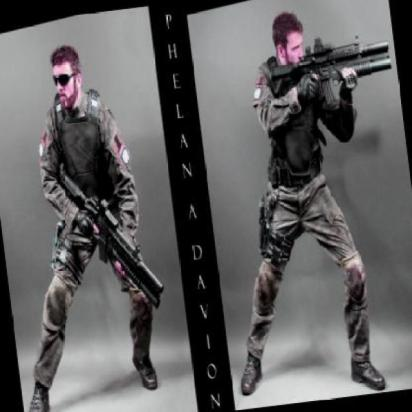Gun: (46, 161, 172, 322), (254, 33, 397, 112)
